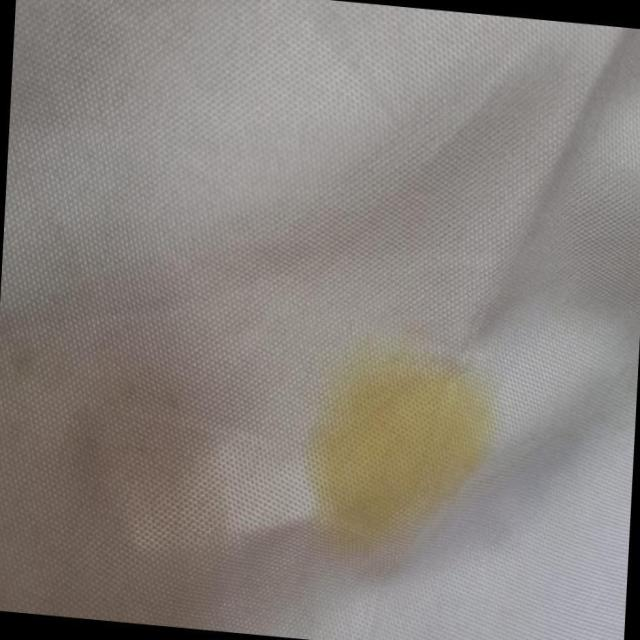stain: (296, 335, 501, 573)
